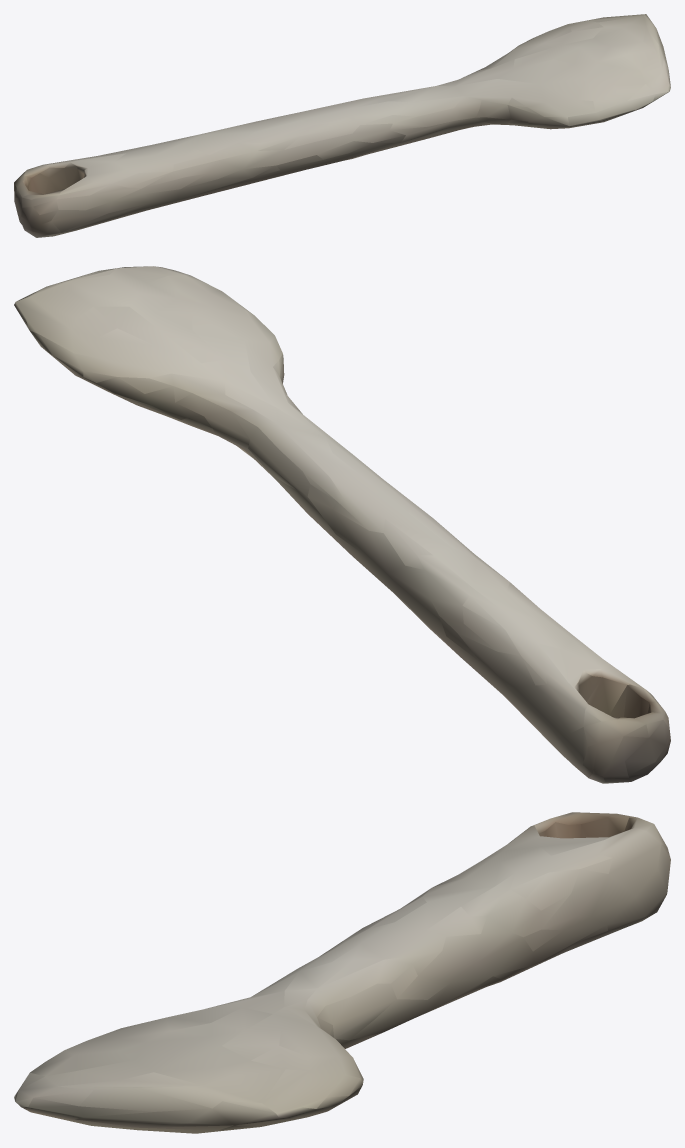
The model's file is 0001_mask_002_wooden_spoon.glb.
The picture shows the model from 3 angles, top to bottom: view 1: azimuth 30°, elevation 25°; view 2: azimuth 150°, elevation 25°; view 3: azimuth 270°, elevation 25°; orthographic projection. The views are drawn at different scales.
Parts seen in each view (by area): view 1: mask_002_object; view 2: mask_002_object; view 3: mask_002_object.
Part boxes in pixels (left/top/right/bottom): mask_002_object: left=14, top=14, right=670, bottom=237; mask_002_object: left=14, top=266, right=670, bottom=783; mask_002_object: left=14, top=812, right=670, bottom=1133.
Size of the model in its own units: 0.6238 by 0.1721 by 0.3409.
